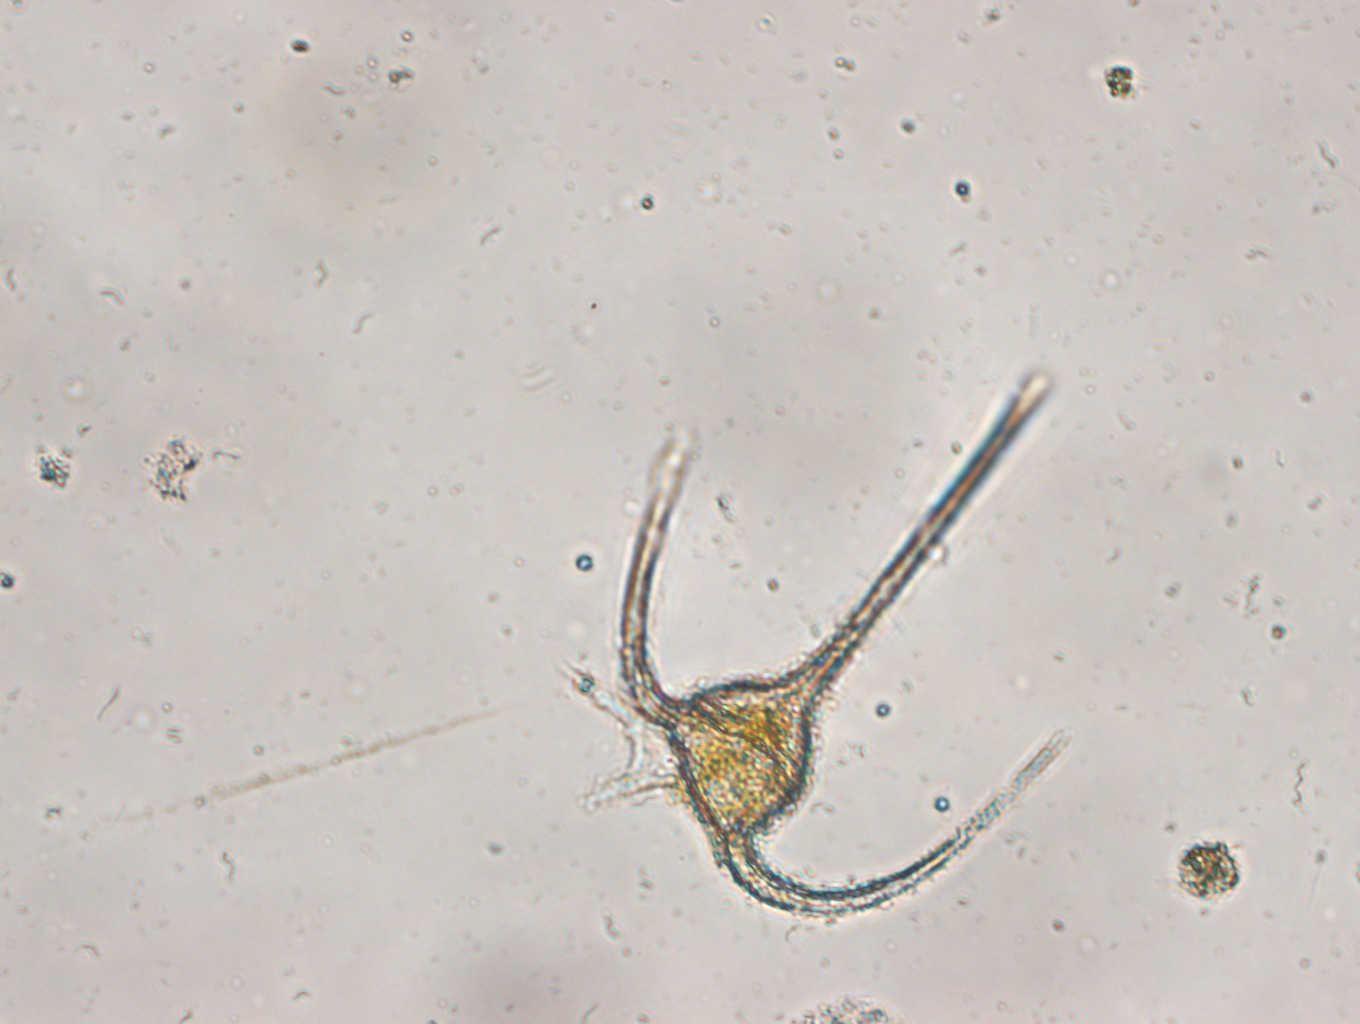ceratium trichoceros: (612, 364, 1082, 930)
